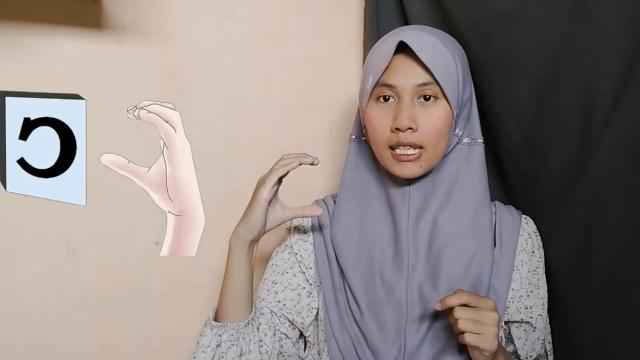C: (227, 152, 326, 250)
